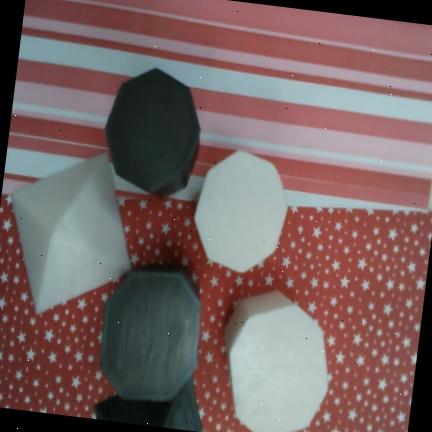Piramide: (92, 376, 203, 432)
Prisma_hexagonal: (12, 154, 130, 313), (226, 290, 328, 432), (99, 265, 201, 401), (104, 67, 200, 200), (193, 148, 288, 274)
